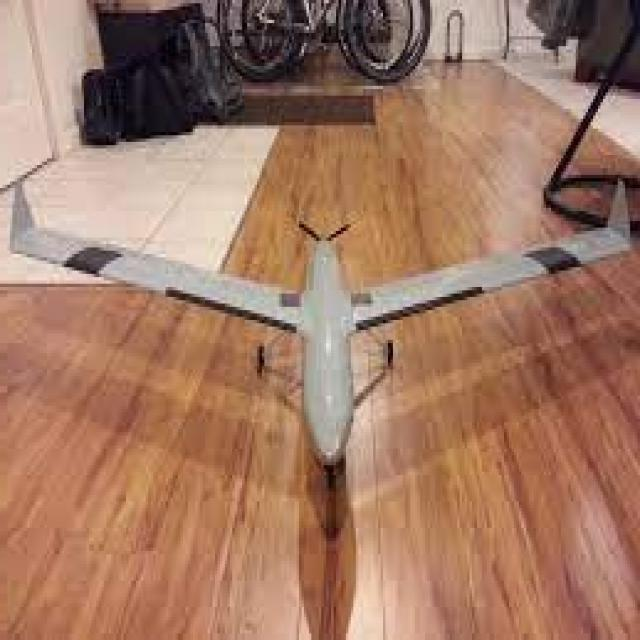UAV: (48, 188, 591, 481)
